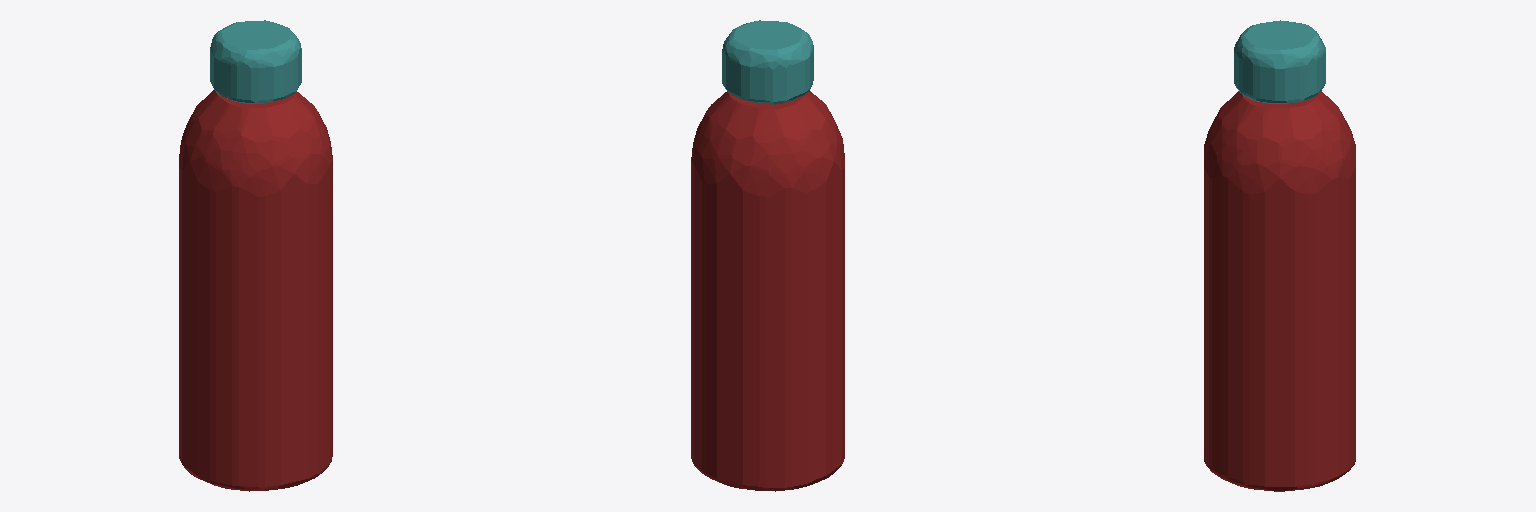
robot.urdf — root:
<robot name="root">
  <link name="bottle_body">
    <inertial>
      <origin xyz="0 0 0" rpy="0 0 0"/>
    </inertial>
    <mass value="1.00E-02"/>
    <visual>
      <origin xyz="0 0 0" rpy="0 0 0"/>
      <geometry>
        <mesh filename="core-bottle-10f709cecfbb8d59c2536abb1e8e5eab-coacd_convex_piece_1.obj" scale="1.0000E-01 1.0000E-01 1.0000E-01"/>
      </geometry>
      <material name="">
        <color rgba="6.00E-01 2.00E-01 2.00E-01 1"/>
      </material>
    </visual>
    <collision>
      <origin xyz="0 0 0" rpy="0 0 0"/>
      <geometry>
        <mesh filename="core-bottle-10f709cecfbb8d59c2536abb1e8e5eab-coacd_convex_piece_1.obj" scale="1.0000E-01 1.0000E-01 1.0000E-01"/>
      </geometry>
    </collision>
  </link>
  <link name="bottle_cap">
    <origin xyz="0 0 0.002" rpy="0 0 0"/>
    <mass value="1.00E-02"/>
    <visual>
      <origin xyz="0 0 0.002" rpy="0 0 0"/>
      <geometry>
        <mesh filename="core-bottle-10f709cecfbb8d59c2536abb1e8e5eab-coacd_convex_piece_0.obj" scale="1.0000E-01 1.0000E-01 1.0000E-01"/>
      </geometry>
      <material name="">
        <color rgba="3.00E-01 6.00E-01 6.00E-01 1"/>
      </material>
    </visual>
    <collision>
      <origin xyz="0 0 0.002" rpy="0 0 0"/>
      <geometry>
        <mesh filename="core-bottle-10f709cecfbb8d59c2536abb1e8e5eab-coacd_convex_piece_0.obj" scale="1.0000E-01 1.0000E-01 1.0000E-01"/>
      </geometry>
    </collision>
  </link>
  <joint name="bottle_cap_joint" type="revolute">
    <origin xyz="0 0 0" rpy="0 0 0"/>
    <parent link="bottle_body"/>
    <child link="bottle_cap"/>
    <axis xyz="0 0 1"/>
    <limit lower="0.00" upper="6.28"/>
    <dynamics damping="0.05"/>
  </joint>
</robot>

--- Facts derived from the render (not from the file) ---
Views: 3 orthographic renders of the robot side by side, from view 1: azimuth 30°, elevation 25°; view 2: azimuth 150°, elevation 25°; view 3: azimuth 270°, elevation 25°.
Model root with 2 links and 1 joints (1 revolute), rooted at bottle_body, posed every joint at zero.
Links seen in each view (by area): view 1: bottle_body, bottle_cap; view 2: bottle_body, bottle_cap; view 3: bottle_body, bottle_cap.
Link boxes in pixels (x1,y1,x2,y2): bottle_body: (179,90,332,491); bottle_cap: (210,20,301,103); bottle_body: (691,91,844,491); bottle_cap: (722,20,813,104); bottle_body: (1204,91,1355,491); bottle_cap: (1234,20,1325,103).
Bounding box of the posed robot: 0.062 × 0.062 × 0.1921 m (x, y, z).
Meshes: 2 distinct files referenced, 2 mesh visuals loaded (2 OBJ).